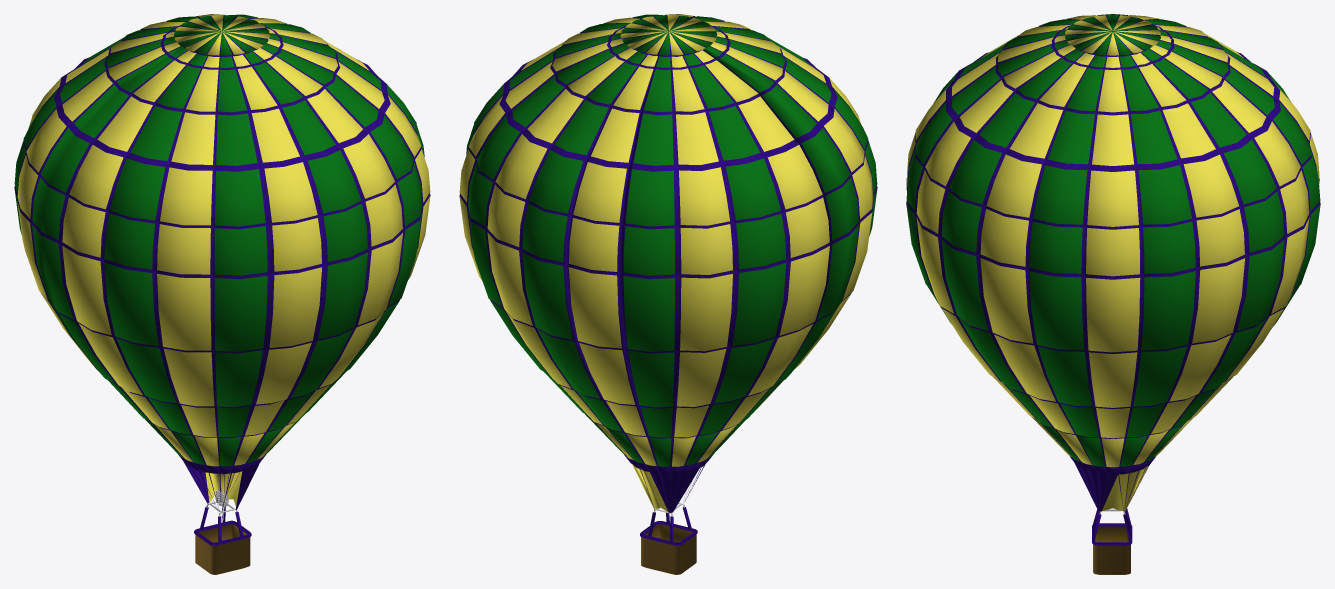
The model's file is Balloon.fbx.
3 views of the same model, side by side, from view 1: azimuth 30°, elevation 25°; view 2: azimuth 150°, elevation 25°; view 3: azimuth 270°, elevation 25° (orthographic).
Parts seen in each view (by area): view 1: balao, cesto; view 2: balao, cesto; view 3: balao, cesto.
Part boxes in pixels (x1=…): balao: x1=14, y1=14, x2=430, y2=509; cesto: x1=194, y1=500, x2=251, y2=574; balao: x1=459, y1=14, x2=877, y2=512; cesto: x1=640, y1=503, x2=697, y2=574; balao: x1=906, y1=14, x2=1320, y2=511; cesto: x1=1092, y1=508, x2=1132, y2=574.
Size of the model in its own units: 335 by 474 by 332.
